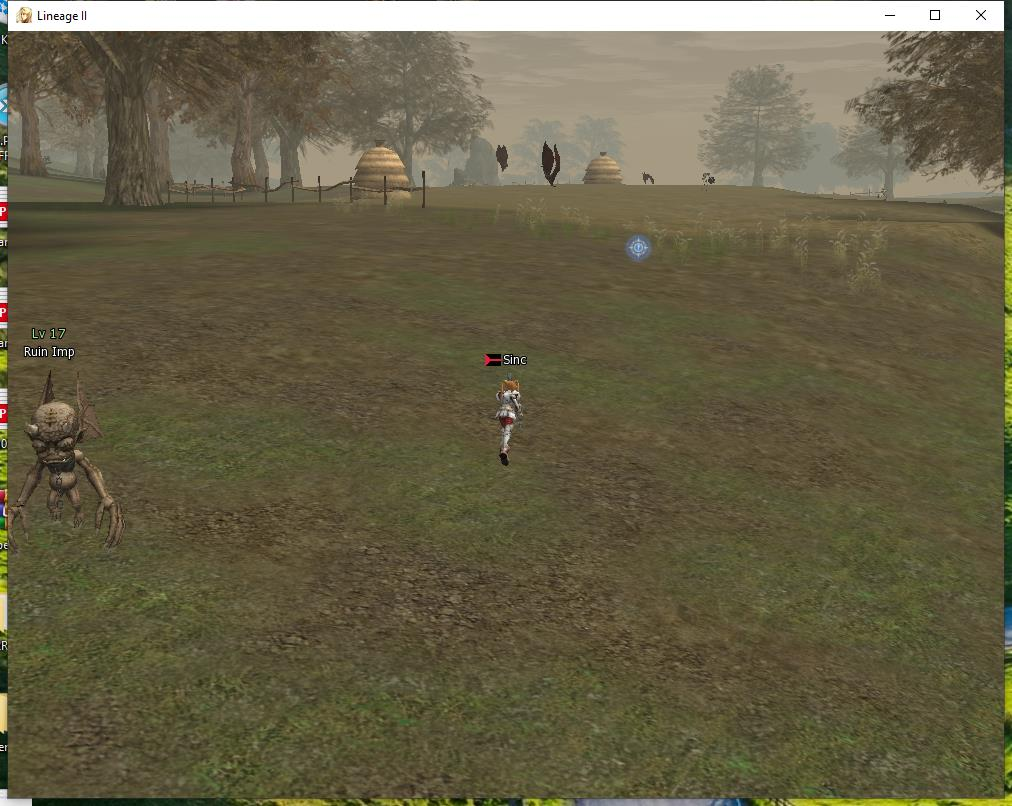monster: (8, 306, 145, 552), (530, 143, 572, 193), (698, 169, 723, 196), (495, 137, 511, 173), (635, 166, 657, 188)
